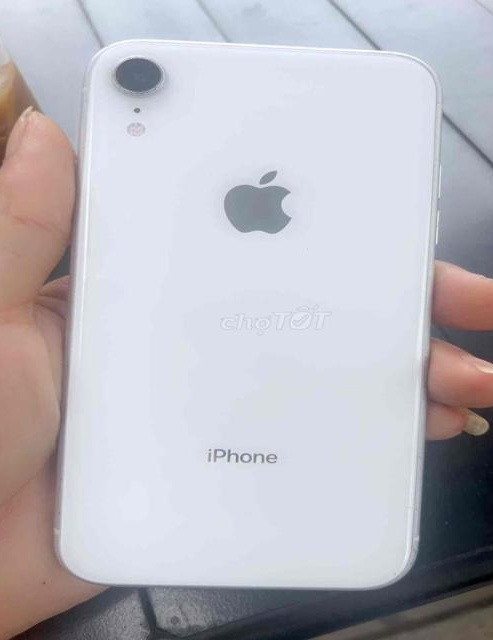scratch: (106, 53, 179, 103), (384, 510, 432, 581), (423, 95, 451, 117)
